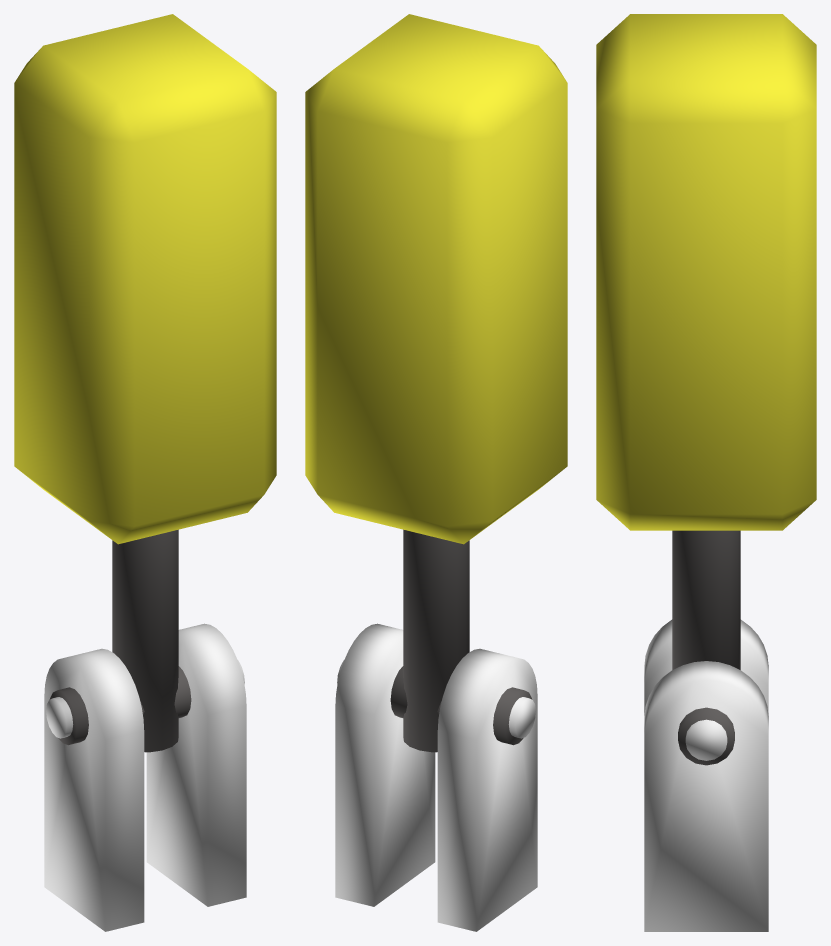
Rendered from Obstacle 23 V2.fbx.
3 renders of one model, left to right at view 1: azimuth 30°, elevation 25°; view 2: azimuth 150°, elevation 25°; view 3: azimuth 270°, elevation 25°, orthographic.
Visible parts, largest first — view 1: O23 Part 2, O23 Part 1; view 2: O23 Part 2, O23 Part 1; view 3: O23 Part 2, O23 Part 1.
Boxes of the visible parts, bbox=[...] form: O23 Part 2: bbox=[14, 14, 276, 752]; O23 Part 1: bbox=[44, 623, 246, 931]; O23 Part 2: bbox=[305, 14, 567, 752]; O23 Part 1: bbox=[335, 623, 537, 931]; O23 Part 2: bbox=[596, 14, 816, 765]; O23 Part 1: bbox=[644, 619, 768, 931].
Size of the model in its own units: 68.06 by 290 by 68.06.
1 material, 1 textured.
